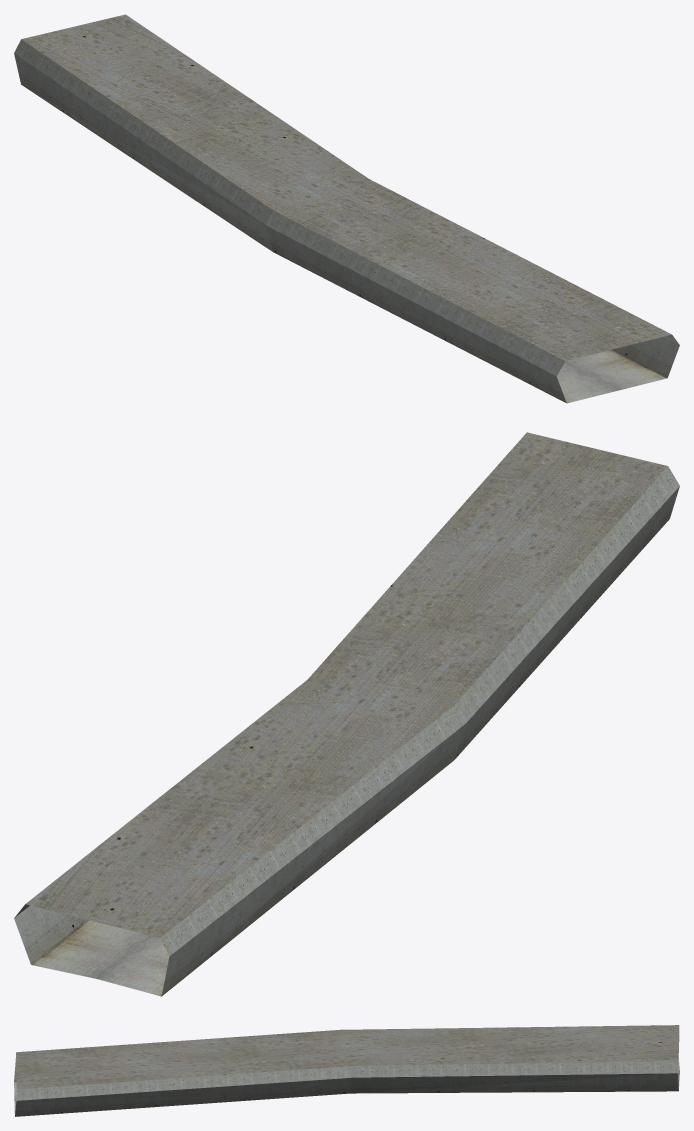
File: lariversec1b_lan.obj
3 views of the same model, one above another, from view 1: azimuth 30°, elevation 25°; view 2: azimuth 150°, elevation 25°; view 3: azimuth 270°, elevation 25° (orthographic). The views are drawn at different scales.
Parts seen in each view (by area): view 1: LAriverSec1b_LAn; view 2: LAriverSec1b_LAn; view 3: LAriverSec1b_LAn.
Part boxes in pixels (x1=…): LAriverSec1b_LAn: x1=14, y1=14, x2=679, y2=403; LAriverSec1b_LAn: x1=14, y1=432, x2=679, y2=996; LAriverSec1b_LAn: x1=14, y1=1025, x2=679, y2=1116.
Bounding box in the file's own units: 19.98 × 4.28 × 80.84.
